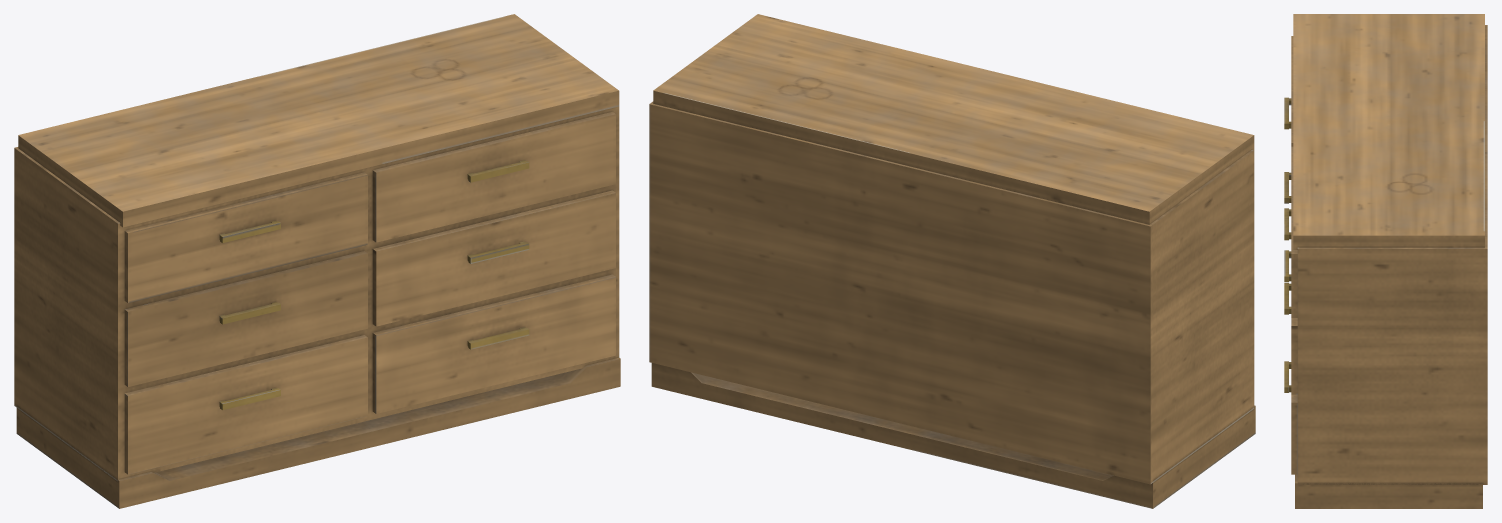
File: H_Dresser_Maple.fbx
3 views of the same model, side by side, from view 1: azimuth 30°, elevation 25°; view 2: azimuth 150°, elevation 25°; view 3: azimuth 270°, elevation 25° (orthographic). The views are drawn at different scales.
Parts seen in each view (by area): view 1: H_Dresser_Maple; view 2: H_Dresser_Maple; view 3: H_Dresser_Maple.
Boxes of the visible parts, <box> form: H_Dresser_Maple: <box>14,14,620,508</box>; H_Dresser_Maple: <box>649,14,1255,508</box>; H_Dresser_Maple: <box>1284,14,1487,508</box>.
Size of the model in its own units: 600 by 340 by 230.
Materials: 1 (1 with a texture image).
